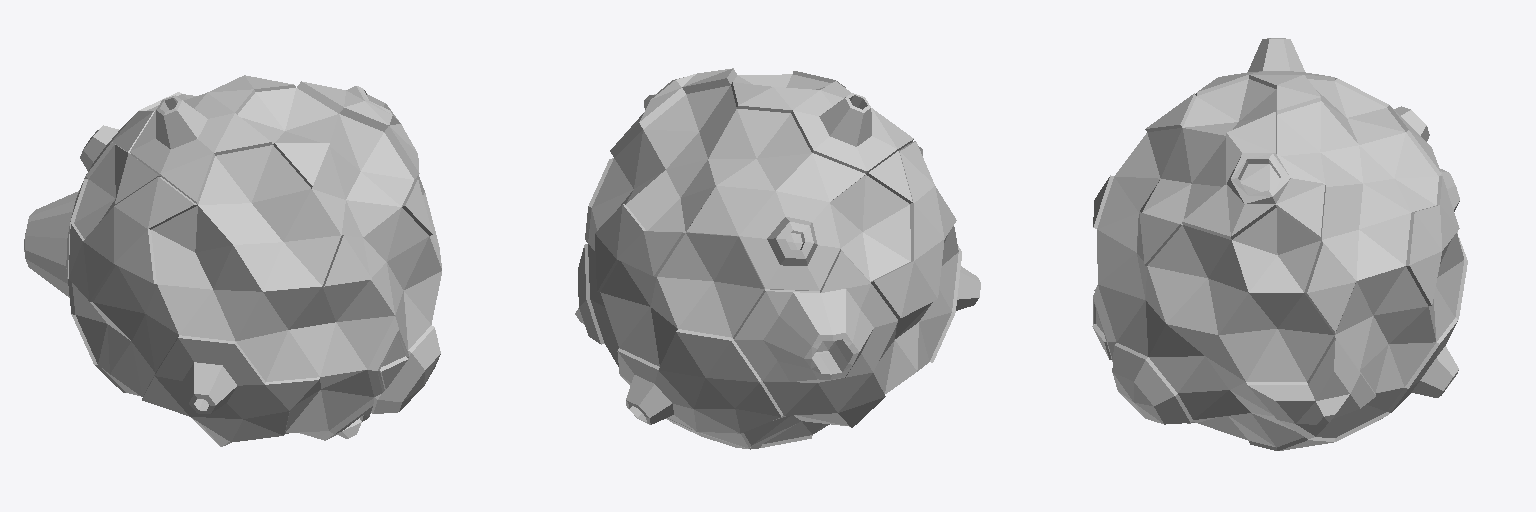
Rendered from Verasten.obj.
3 renders of one model, left to right at view 1: azimuth 30°, elevation 25°; view 2: azimuth 150°, elevation 25°; view 3: azimuth 270°, elevation 25°, orthographic.
Visible parts, largest first — view 1: Icosphere.007_Icosphere; view 2: Icosphere.007_Icosphere; view 3: Icosphere.007_Icosphere.
Part boxes in pixels (x1,y1,x2,y2): Icosphere.007_Icosphere: (24, 75, 441, 446); Icosphere.007_Icosphere: (575, 68, 980, 449); Icosphere.007_Icosphere: (1092, 38, 1467, 450).
Bounding box in the file's own units: 144 × 146 × 140.